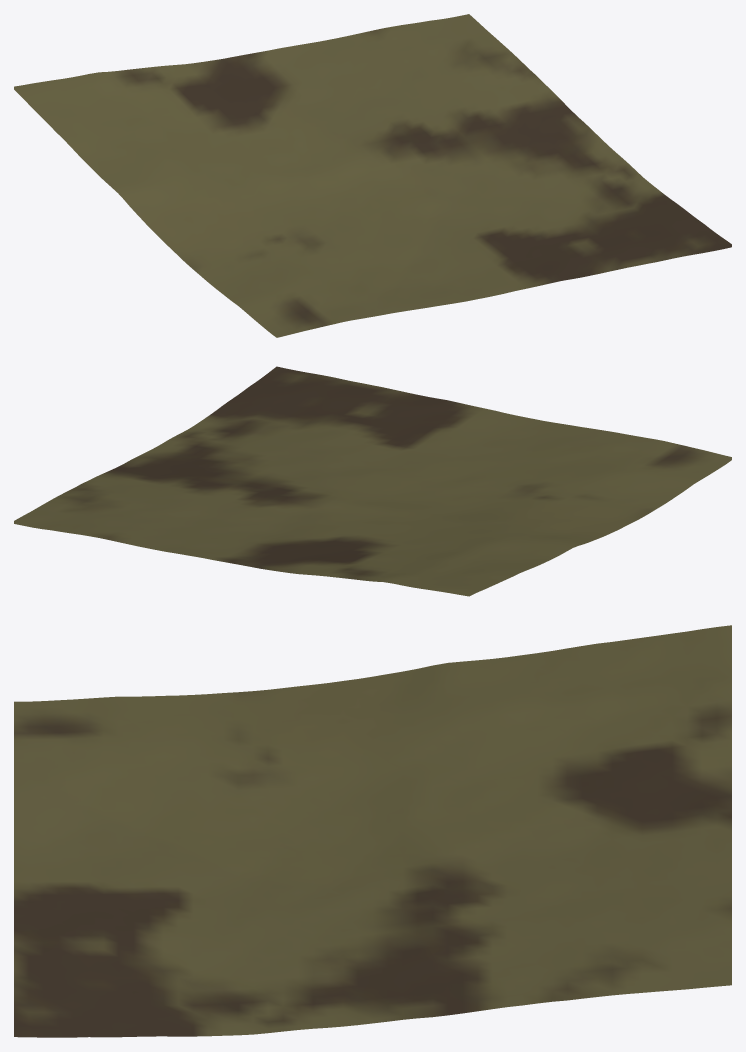
Rendered from land_m_00_02.glb.
3 renders of one model, top to bottom at view 1: azimuth 30°, elevation 25°; view 2: azimuth 150°, elevation 25°; view 3: azimuth 270°, elevation 25°, orthographic. The views are drawn at different scales.
Visible parts, largest first — view 1: land_m_00_02; view 2: land_m_00_02; view 3: land_m_00_02.
Boxes of the visible parts, bbox=[...] form: land_m_00_02: bbox=[14, 14, 731, 337]; land_m_00_02: bbox=[14, 366, 731, 596]; land_m_00_02: bbox=[14, 625, 731, 1037].
Size of the model in its own units: 960 by 161 by 960.
